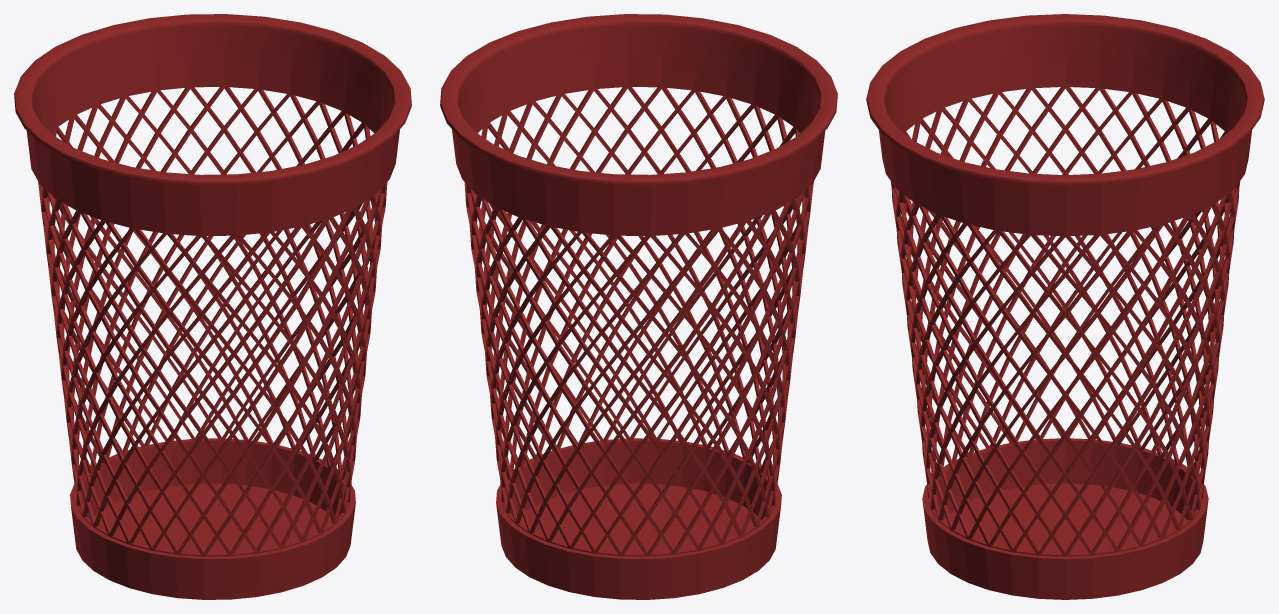
Rendered from Ball-Red.glb.
3 views of the same model, side by side, from view 1: azimuth 30°, elevation 25°; view 2: azimuth 150°, elevation 25°; view 3: azimuth 270°, elevation 25° (orthographic).
Visible parts, largest first — view 1: TrashBin; view 2: TrashBin; view 3: TrashBin.
Part boxes in pixels (x1,y1,x2,y2): TrashBin: (14,14,411,599); TrashBin: (440,14,837,599); TrashBin: (866,14,1264,599).
Size of the model in its own units: 327 by 402 by 327.
